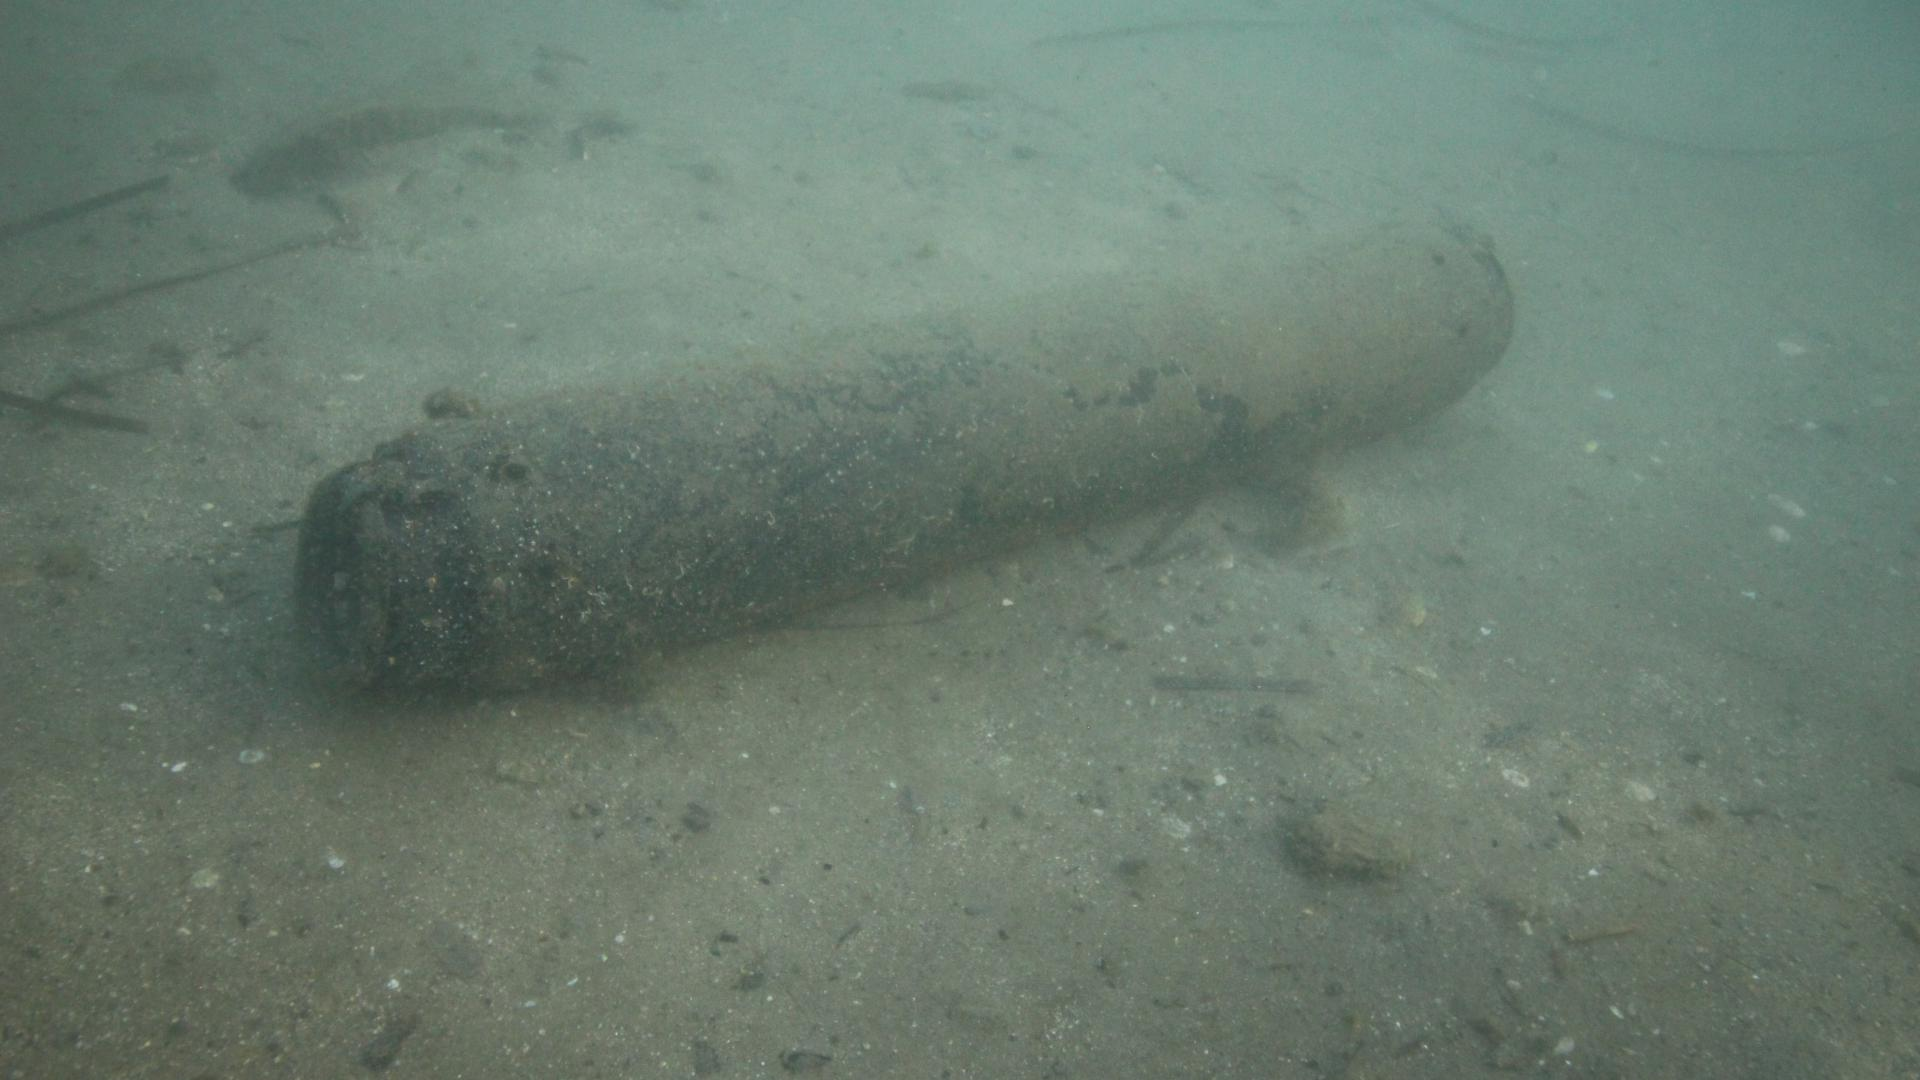eel fish trap: (287, 215, 1516, 705)
